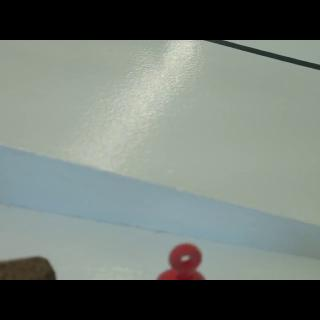teletubby: (157, 244, 204, 280)
